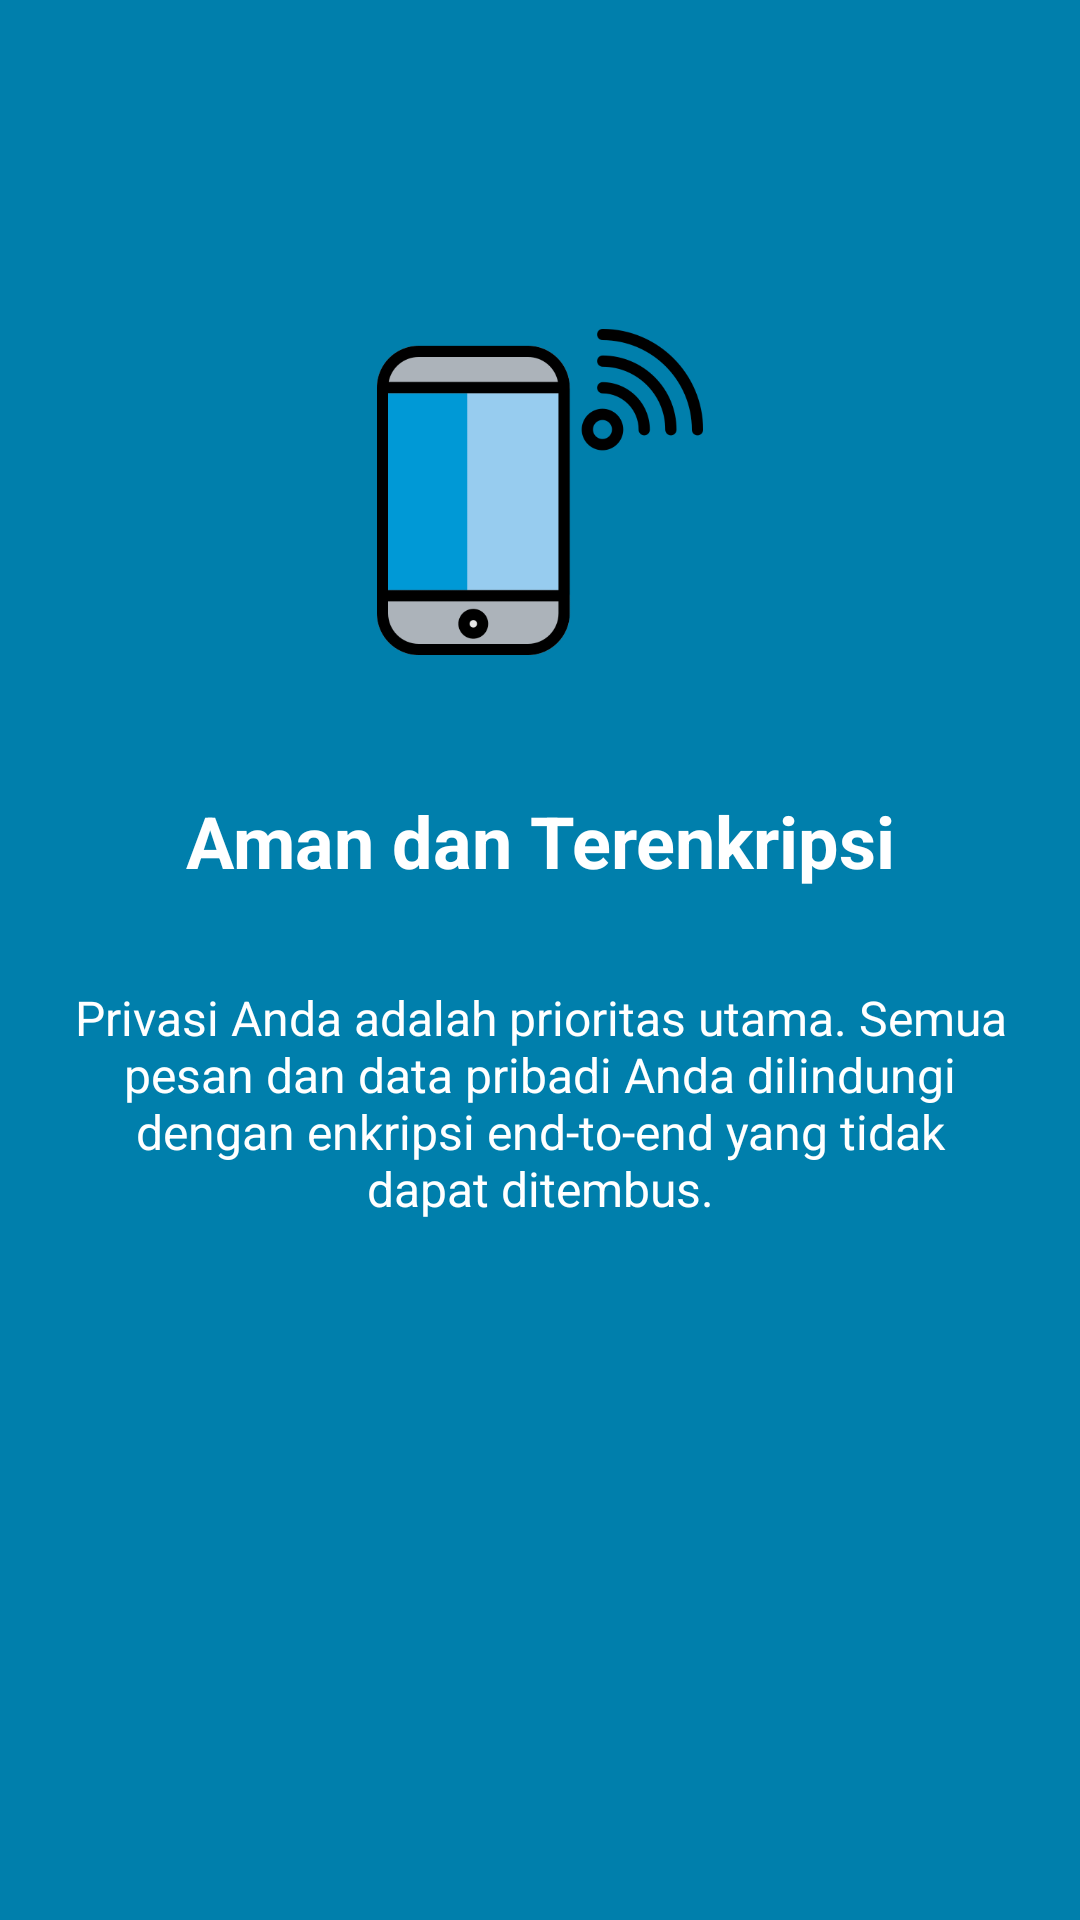

Where to tap for icons on this 1080*1920 app screen, as (x,y):
handphone: (540,492)
